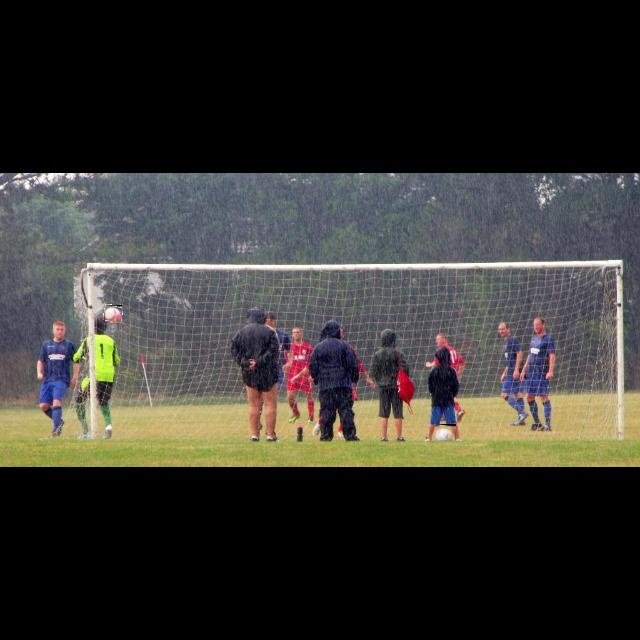Football: (434, 424, 456, 440), (104, 305, 122, 323)
